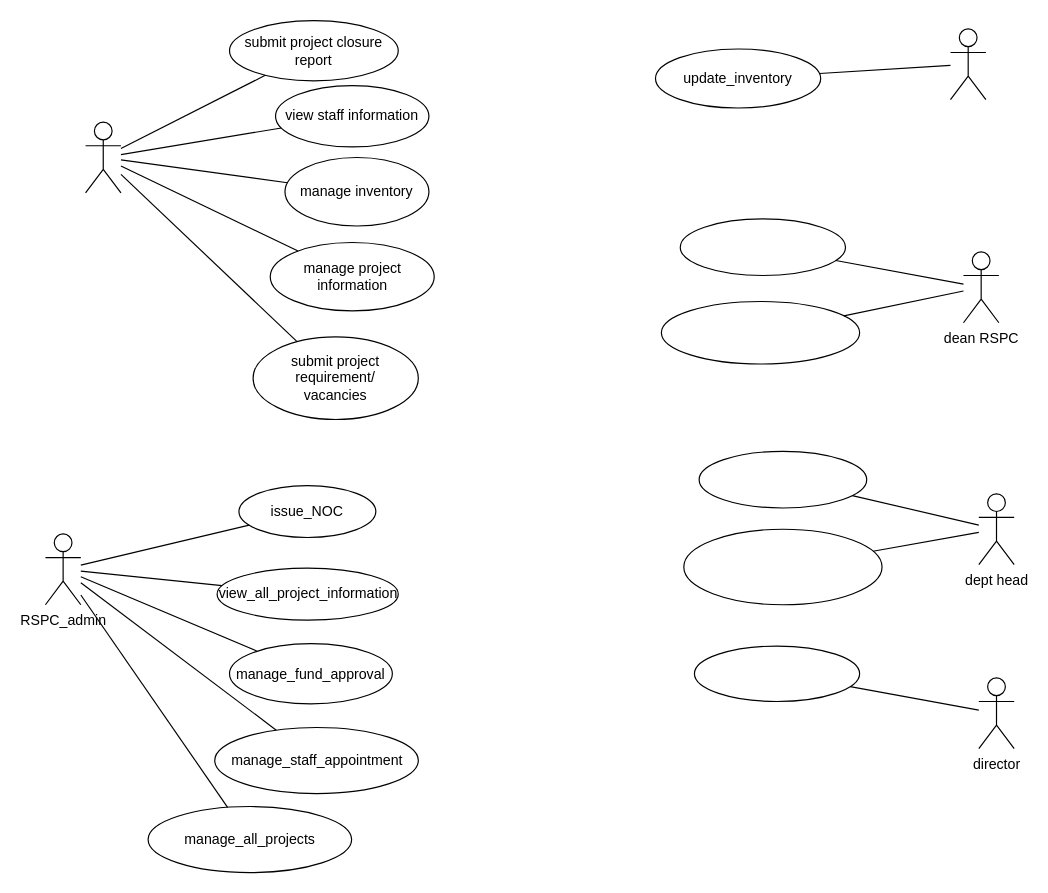
Some shapes in this 1048 by 893 pixel diagram are drawn without their labels. The centre of each missing label's shape, as x and y in pixels:
approve/forward fund_request: the point at 762,247
approve_fund_request: the point at 776,673
approve_staff_appointment: the point at 760,332
Faculty: the point at 102,157
forward_fund_request: the point at 782,479
forward_staff_appointment request: the point at 782,566
purchase_store _admin: the point at 967,64
